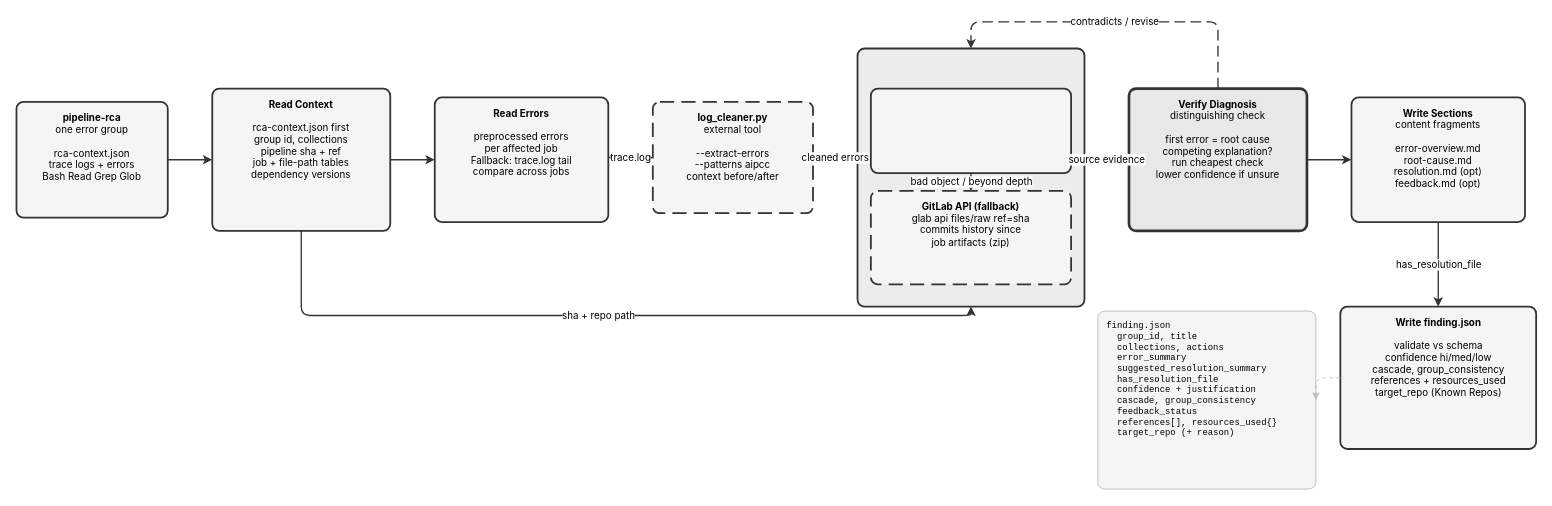
Some shapes in this 1552 by 506 pixel diagram are drawn without their labels. The box of each missing label's shape, as (x1, y1, x2, y2) in pixels:
Investigate Source @ SHA: (856, 47, 1085, 307)
Local git (first) git show sha:path ls-tree, grep at sha shallow clone d1-20: (870, 87, 1072, 174)
